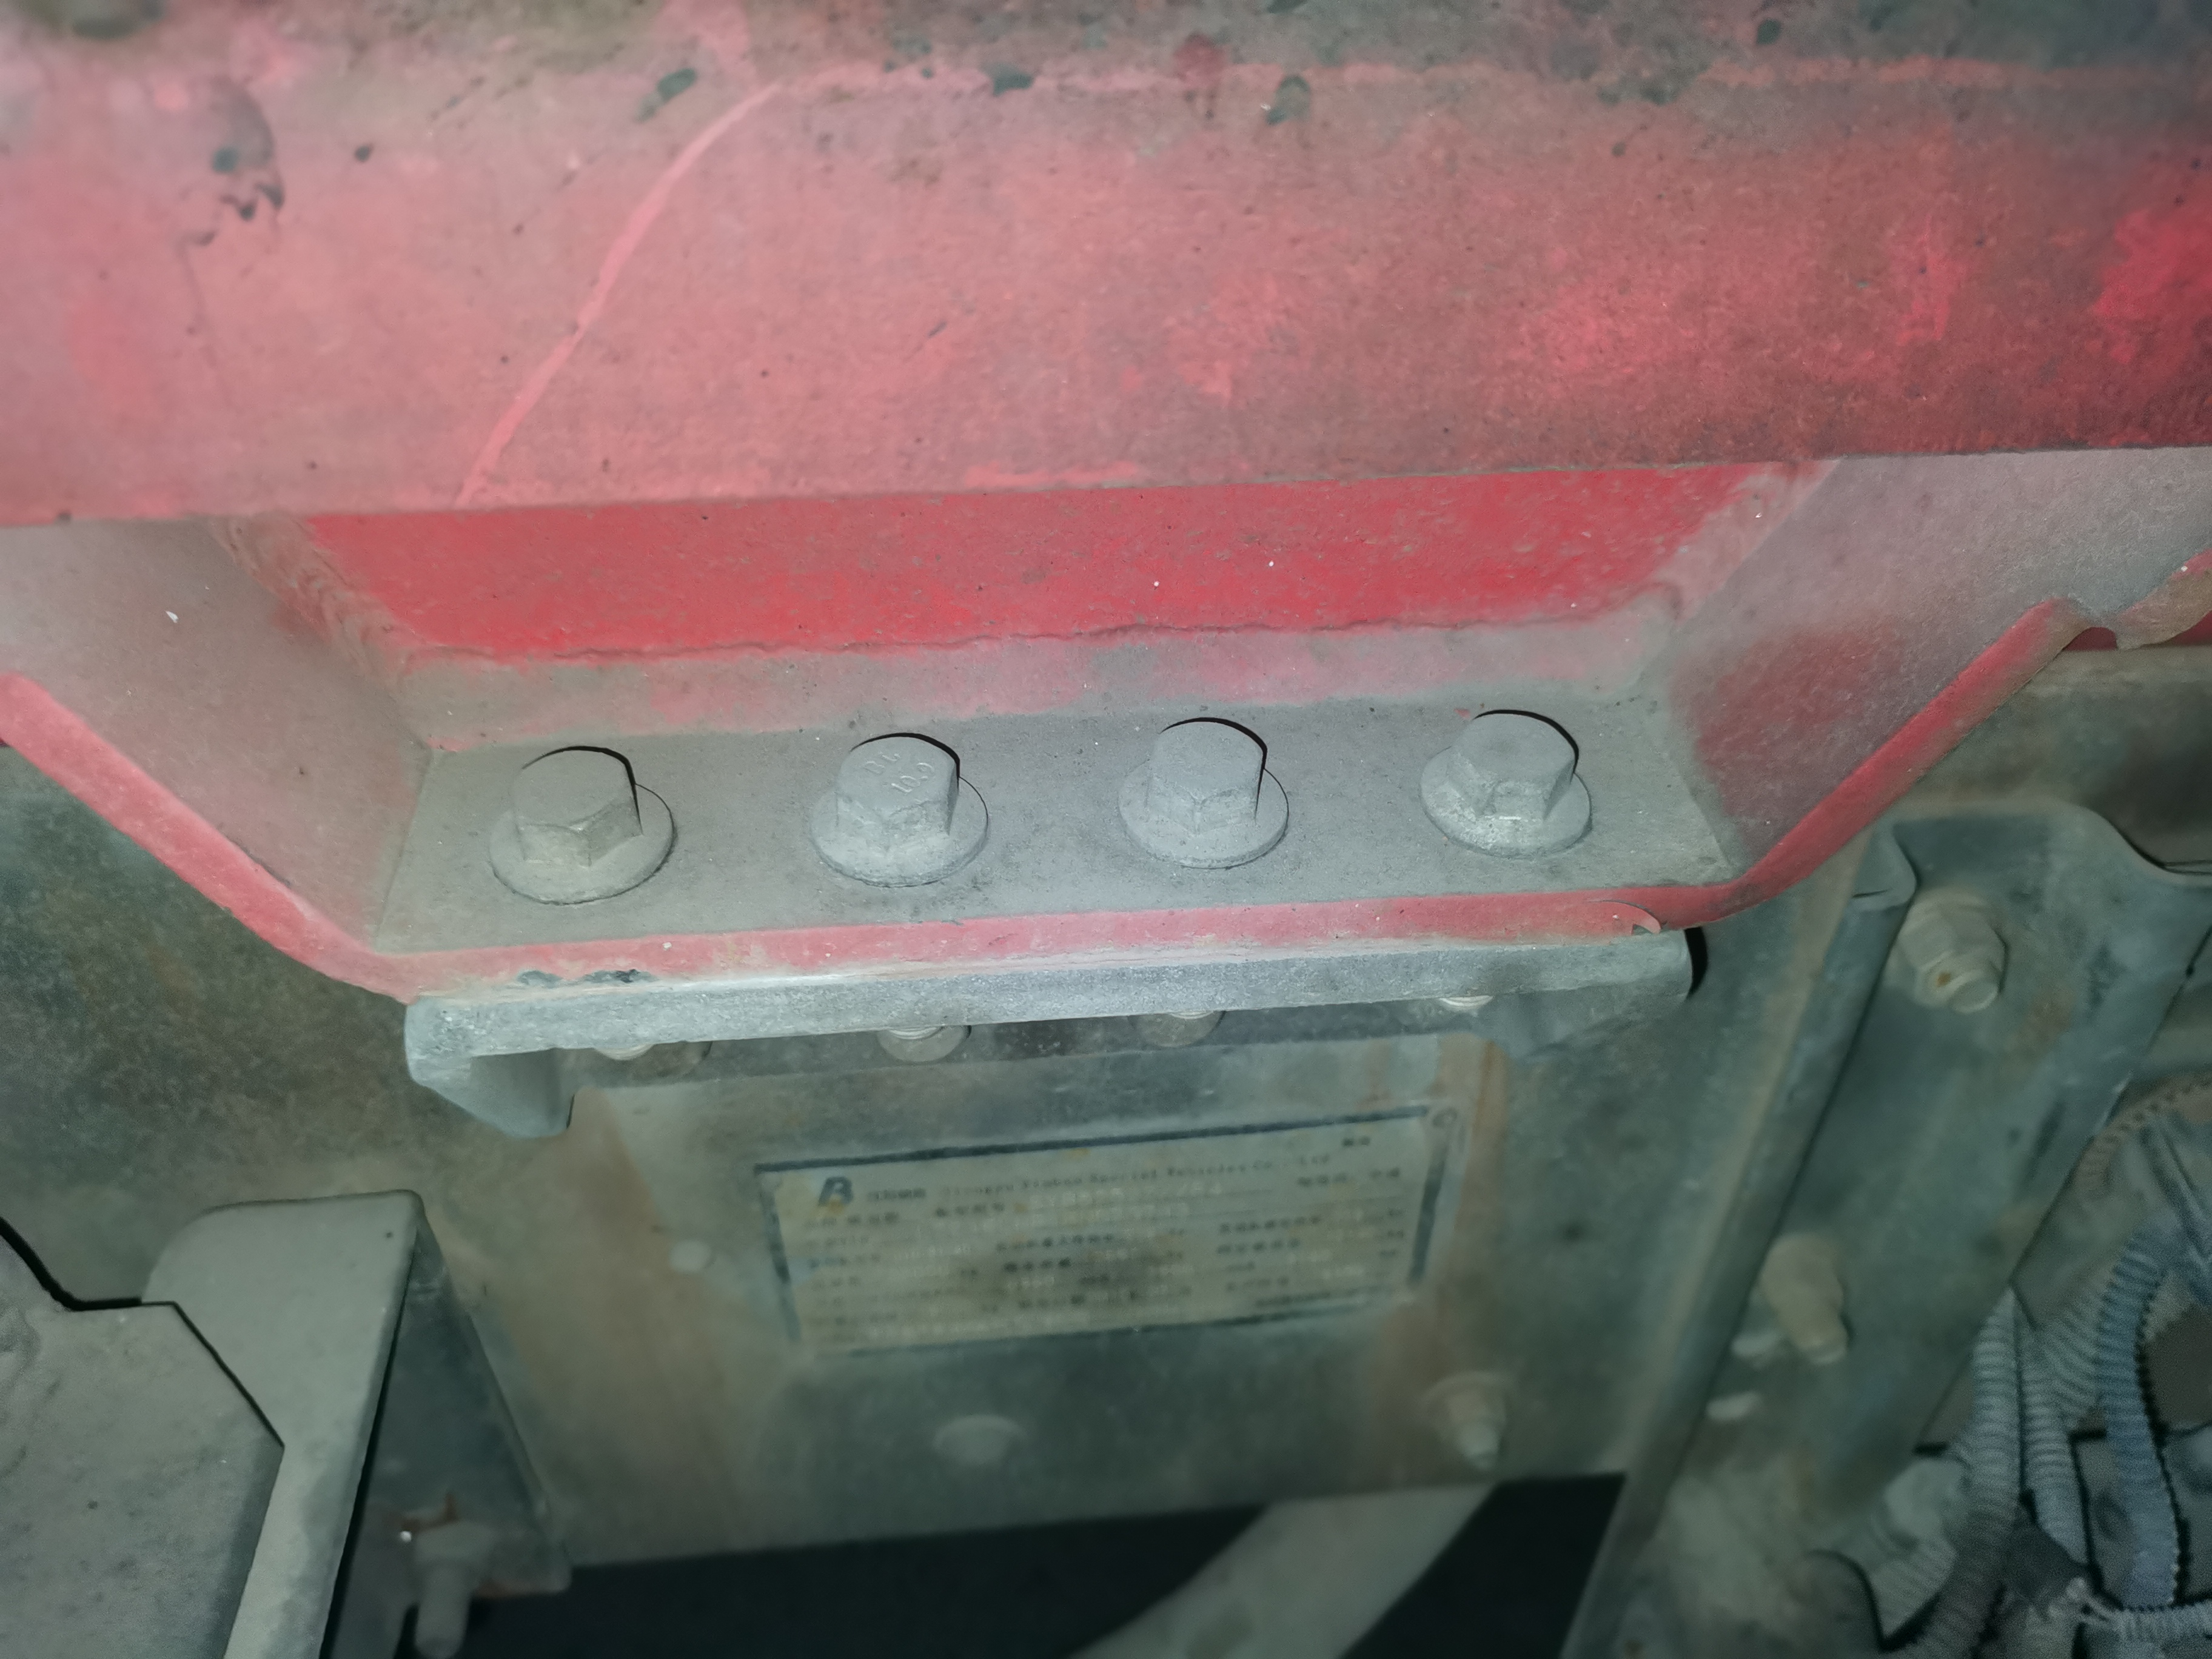bolt_a: (500, 735, 650, 873), (826, 723, 968, 856), (1440, 704, 1583, 829), (1132, 718, 1271, 835)
bolt_b: (1892, 904, 2008, 1025)
vague: (1757, 1248, 1855, 1345), (404, 1516, 500, 1600), (1428, 1385, 1517, 1469)
